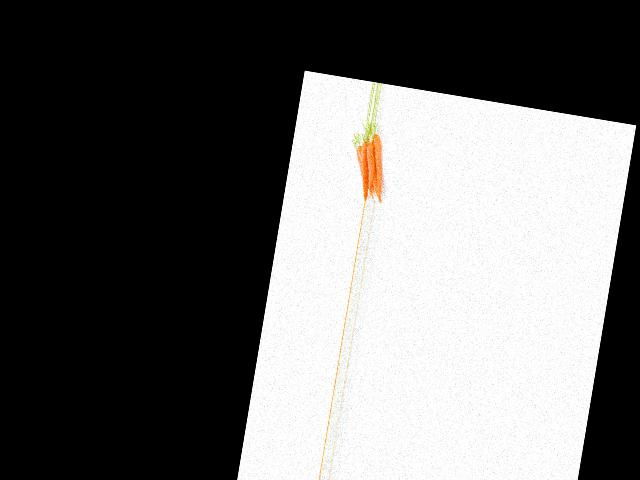carrot: (367, 132, 390, 202)
